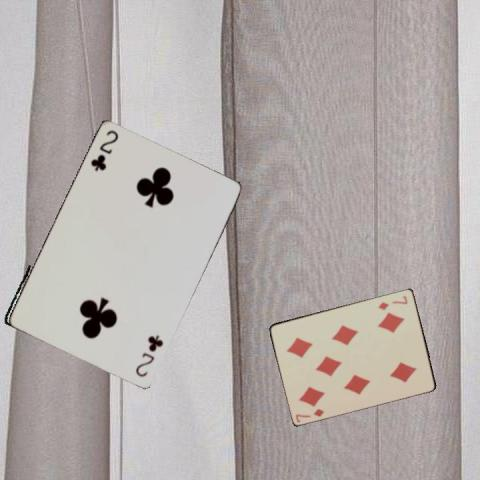2c: (132, 332, 164, 379), (87, 128, 119, 174)
7d: (375, 293, 409, 311), (293, 406, 325, 424)
